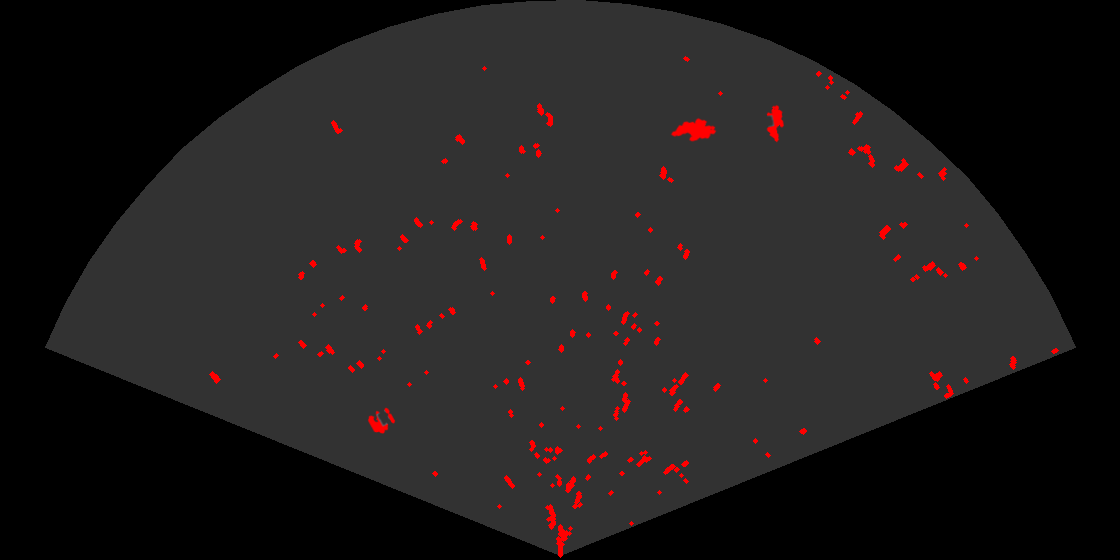AUV: (669, 116, 718, 143), (765, 103, 786, 144)
ball: (366, 406, 397, 435)
